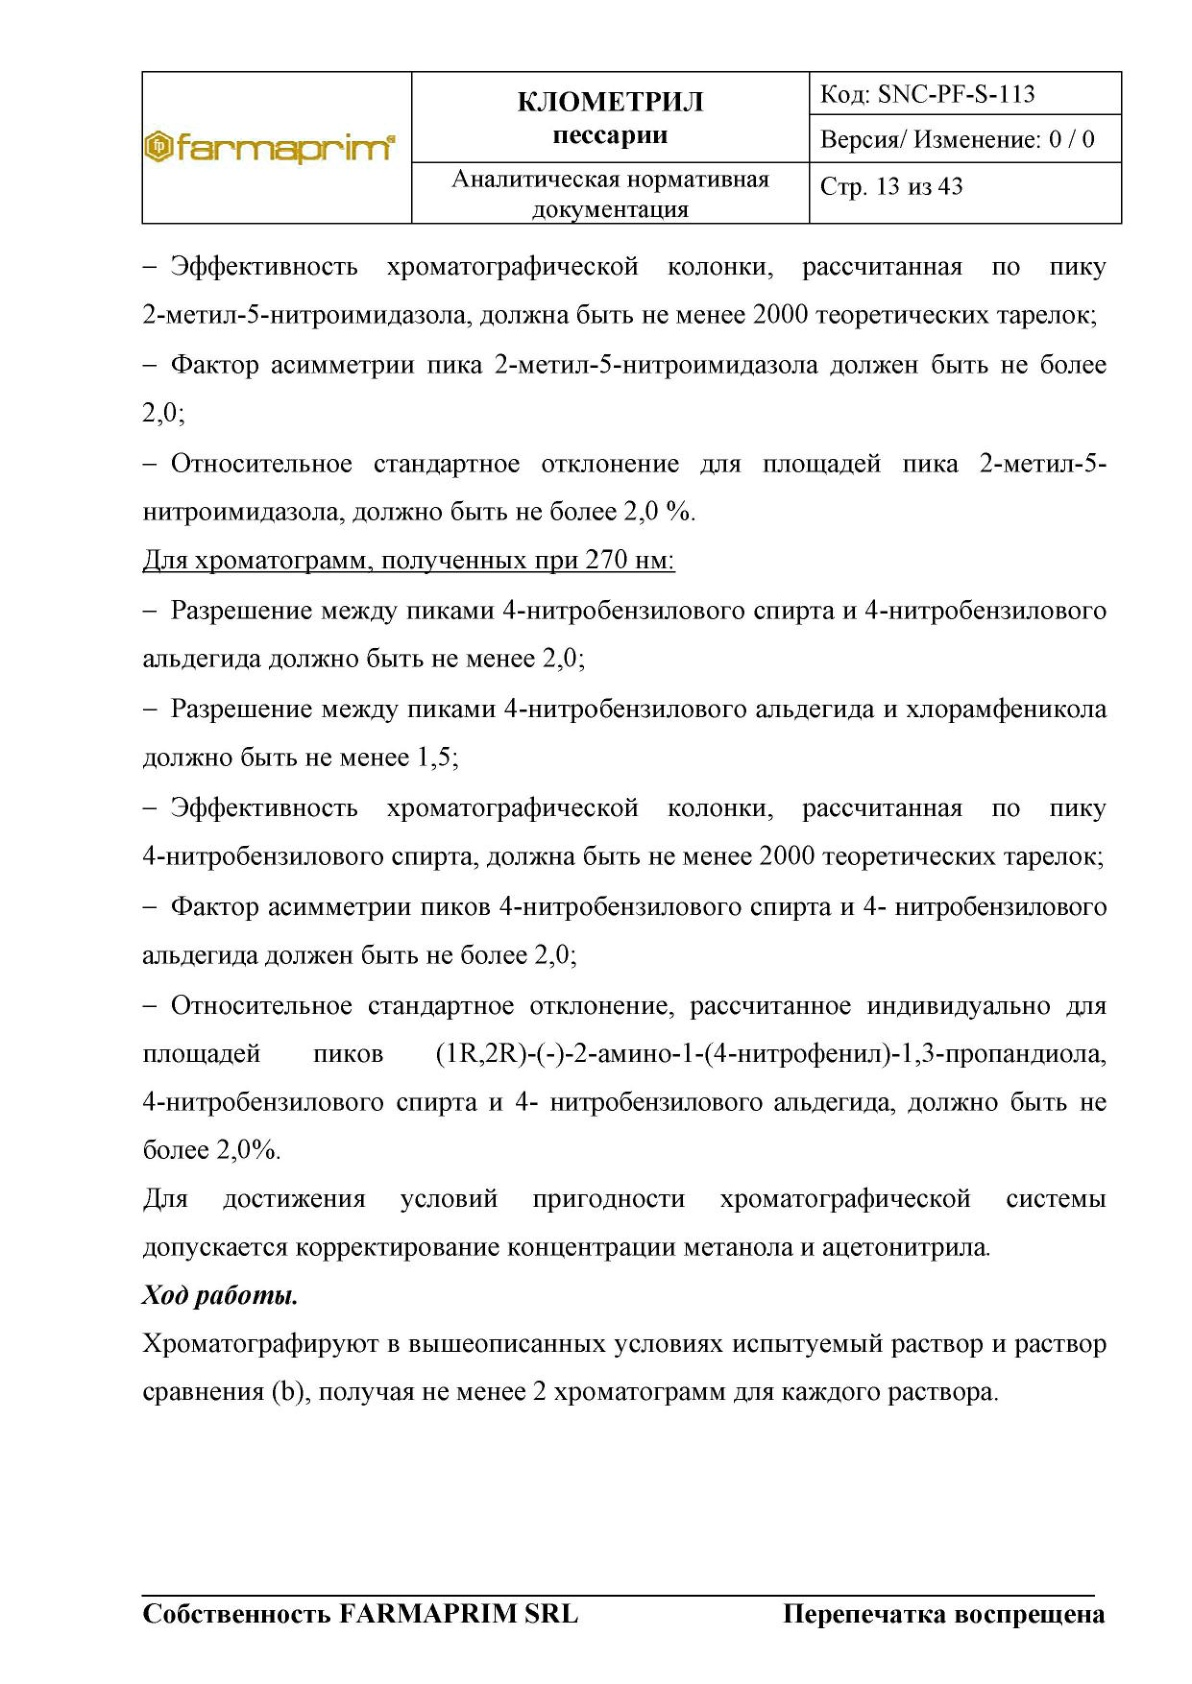merged_cells: (141, 71, 1124, 224)
